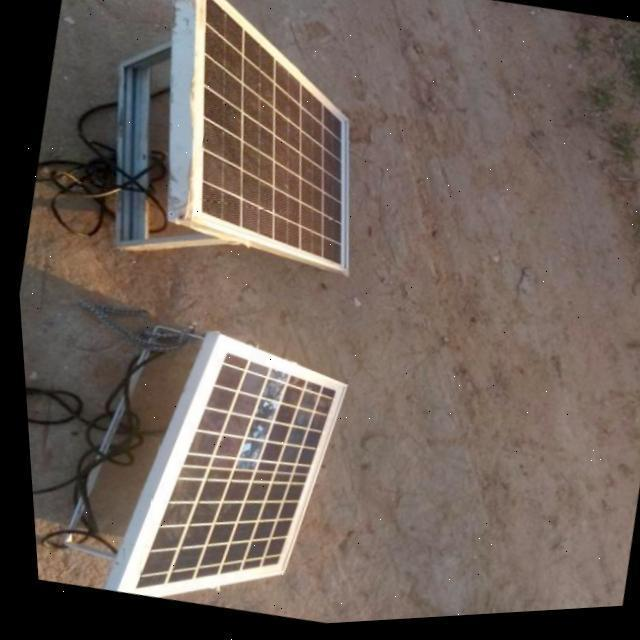Normal Solar Panel: (92, 316, 359, 632), (142, 0, 396, 281)
